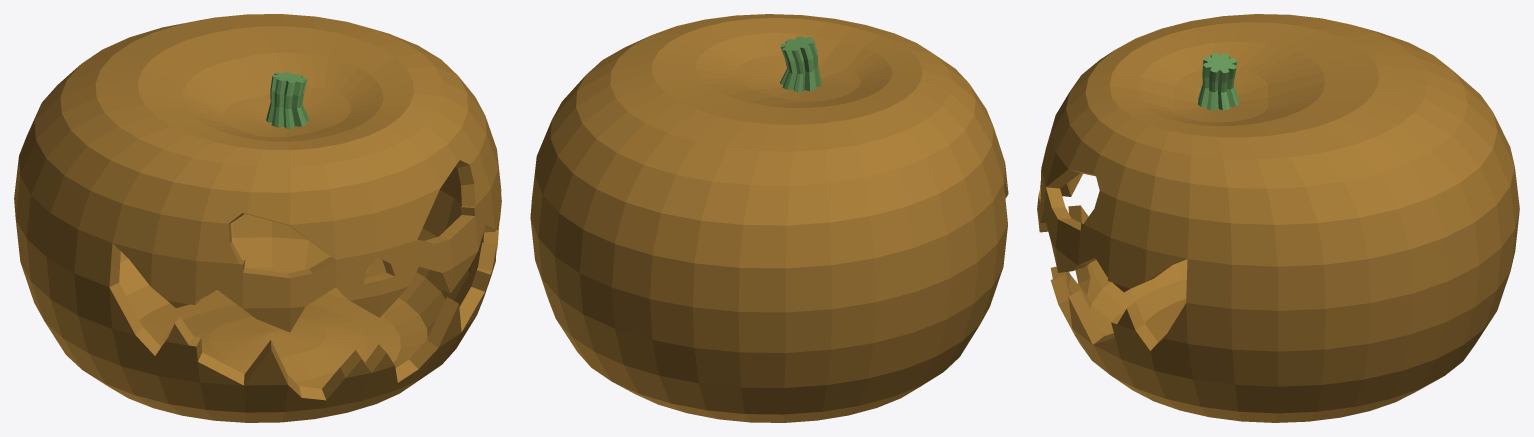
File: Deadbeat_Pumpkin.fbx
The picture shows the model from 3 angles, left to right: view 1: azimuth 30°, elevation 25°; view 2: azimuth 150°, elevation 25°; view 3: azimuth 270°, elevation 25°; orthographic projection. The views are drawn at different scales.
Visible parts, largest first — view 1: Sphere, Cylinder; view 2: Sphere, Cylinder; view 3: Sphere, Cylinder.
Part boxes in pixels (box(x1,y1,x2,y2)): Sphere: box(14, 14, 501, 422); Cylinder: box(266, 72, 309, 128); Sphere: box(530, 14, 1008, 422); Cylinder: box(780, 36, 821, 91); Sphere: box(1037, 14, 1519, 422); Cylinder: box(1198, 53, 1238, 110).
Size of the model in its own units: 200 by 136 by 200.
